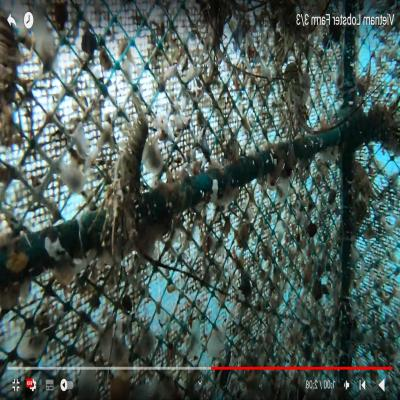lobster: (106, 115, 150, 245), (284, 64, 305, 134)
